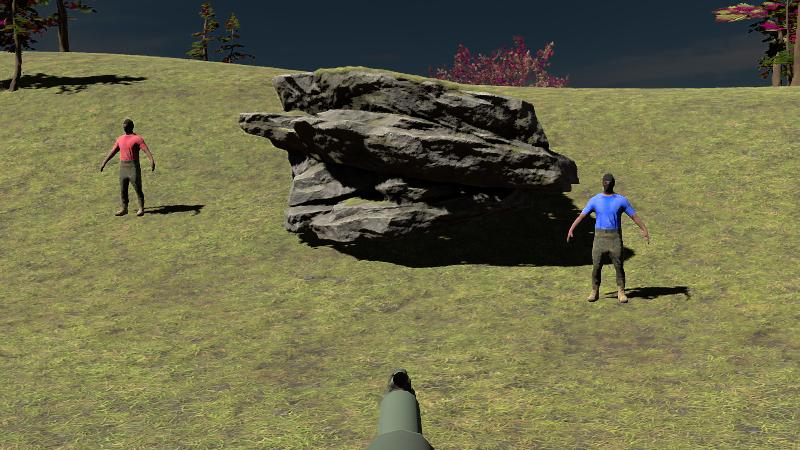Human: (567, 171, 649, 305), (100, 118, 155, 218)
